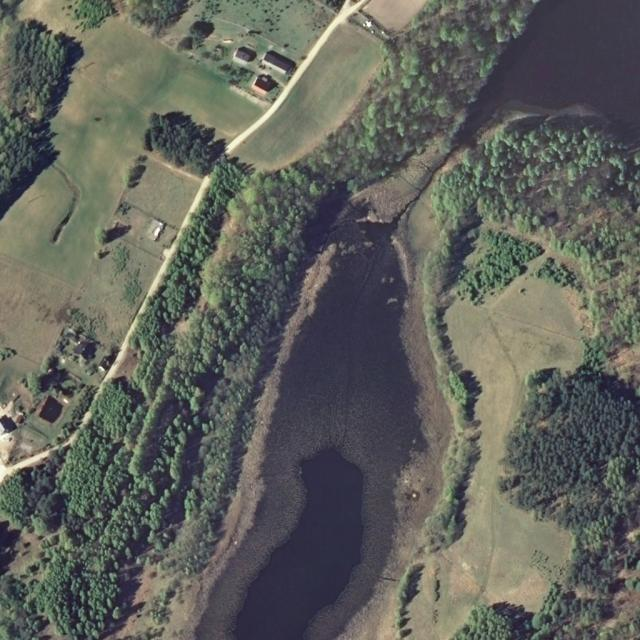agricultural_land: (404, 263, 604, 640), (331, 138, 464, 247), (117, 151, 203, 229), (52, 159, 88, 214)
greenland: (0, 129, 381, 640), (441, 114, 640, 354), (419, 197, 483, 553), (392, 561, 423, 639), (477, 297, 573, 318)
unmetalled_road: (220, 237, 338, 548), (222, 0, 369, 161)
wetland: (181, 203, 486, 640), (304, 220, 442, 640), (228, 458, 382, 640), (459, 0, 640, 143)
